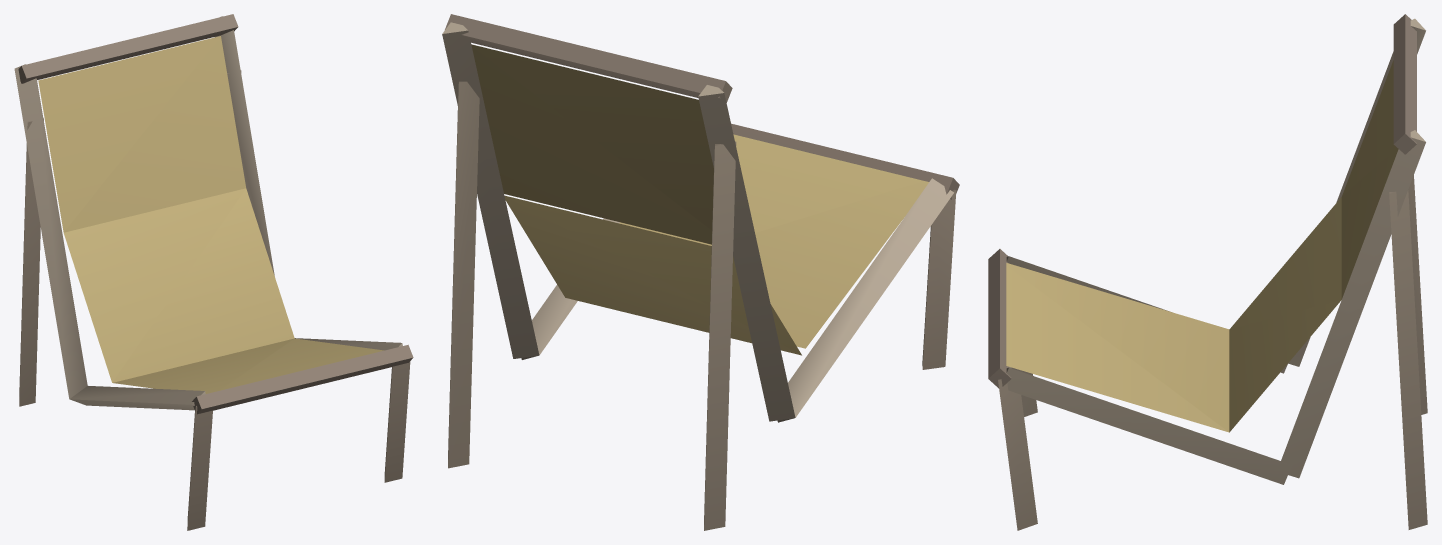
The model's file is deckchair.lod1.glb.
The picture shows the model from 3 angles, left to right: view 1: azimuth 30°, elevation 25°; view 2: azimuth 150°, elevation 25°; view 3: azimuth 270°, elevation 25°; orthographic projection. The views are drawn at different scales.
Size of the model in its own units: 0.5922 by 0.8956 by 0.9.
